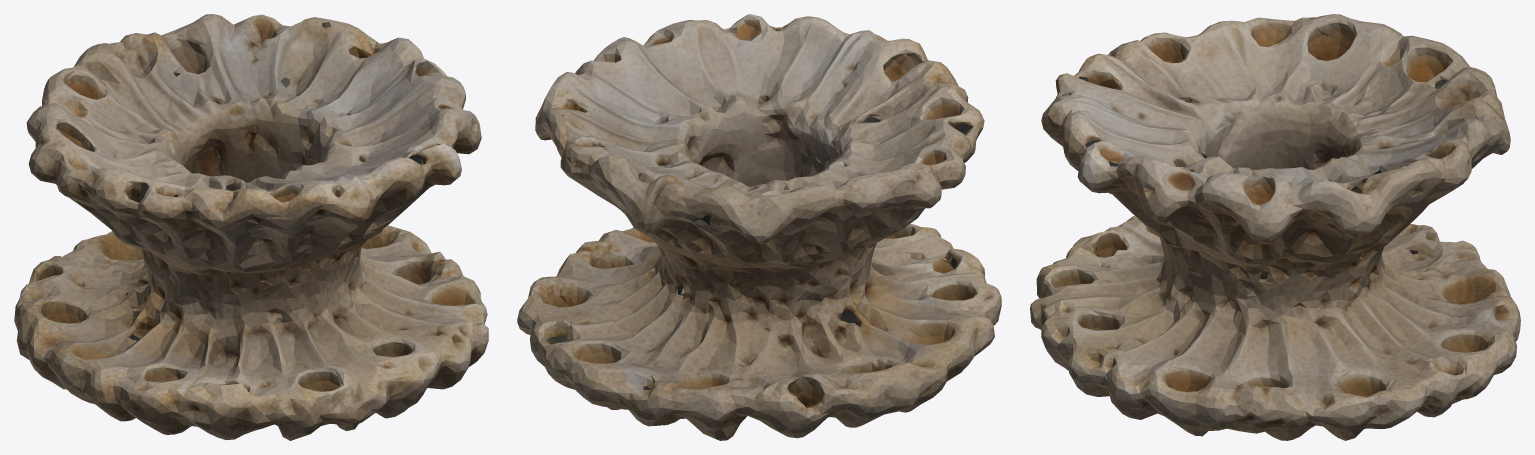
3 views of the same model, side by side, from view 1: azimuth 30°, elevation 25°; view 2: azimuth 150°, elevation 25°; view 3: azimuth 270°, elevation 25° (orthographic). The views are drawn at different scales.
Parts seen in each view (by area): view 1: world; view 2: world; view 3: world.
Part boxes in pixels (box(x1,y1,x2,y2)): world: box(14, 14, 488, 440); world: box(517, 14, 1001, 440); world: box(1030, 14, 1520, 440).
Size of the model in its own units: 0.0706 by 0.0441 by 0.0728.
1 material, 1 textured.
